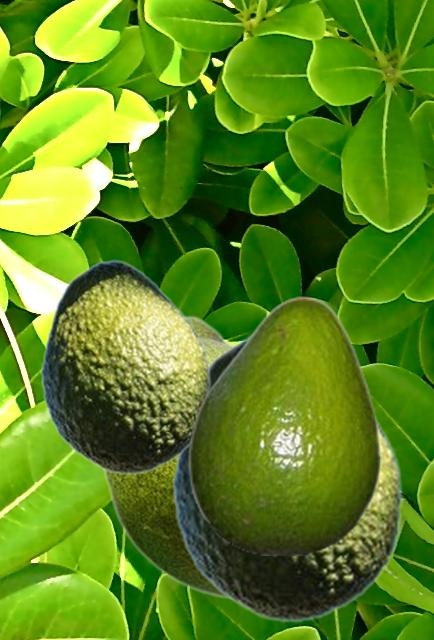avocado: (170, 331, 402, 622), (187, 295, 380, 554), (101, 315, 233, 600), (39, 259, 210, 474)
